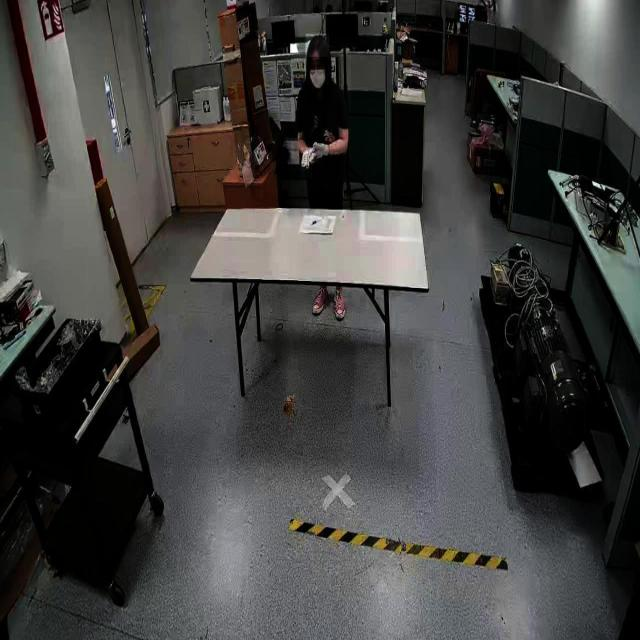face_mask: (306, 59, 330, 98)
hand_glove: (314, 138, 330, 166), (301, 146, 313, 178)
head_nohelmet: (306, 34, 330, 58)
person: (290, 36, 352, 206)
shoes: (333, 282, 349, 322), (311, 280, 327, 314)
